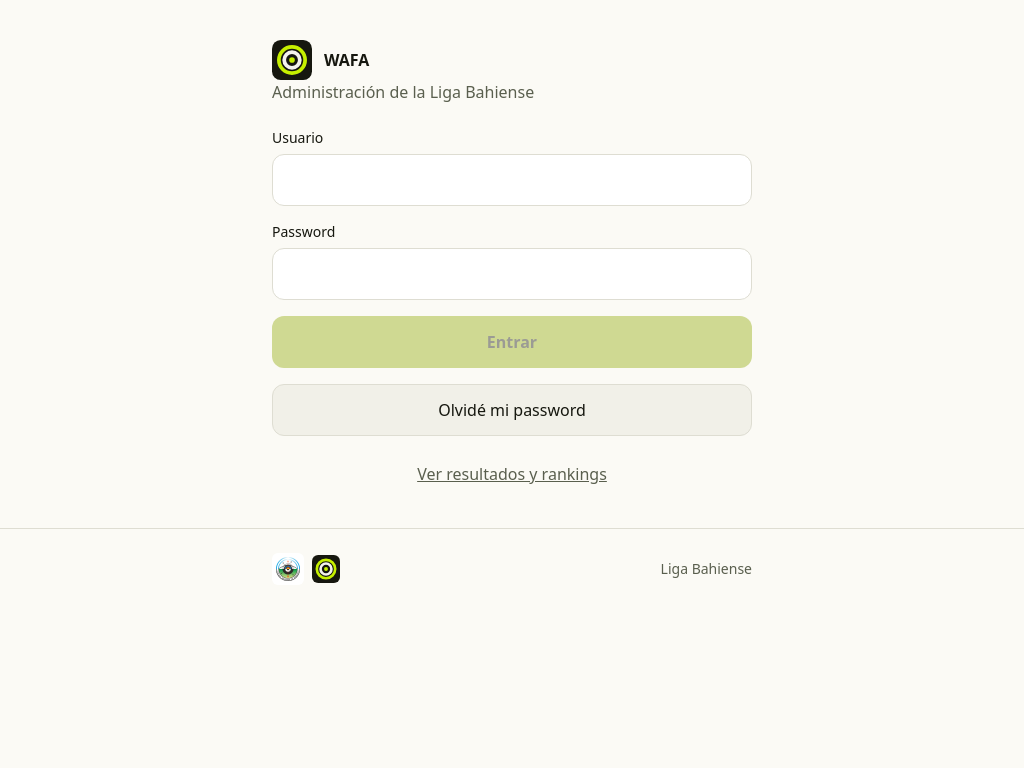
it: sesión de admin › entra y muestra la home
Type "admin" into the field labelled "Usuario" at (512, 180), box [272,154,752,206]
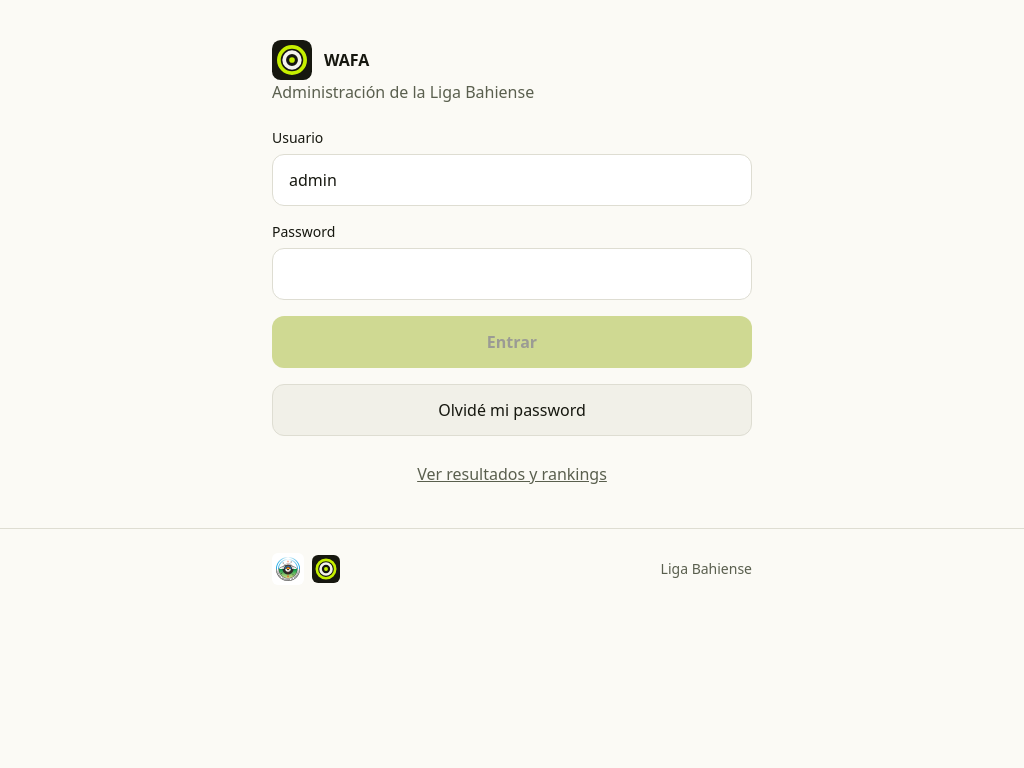
Type "secreto" into the password field labelled "Password" at (512, 274), box [272,248,752,300]
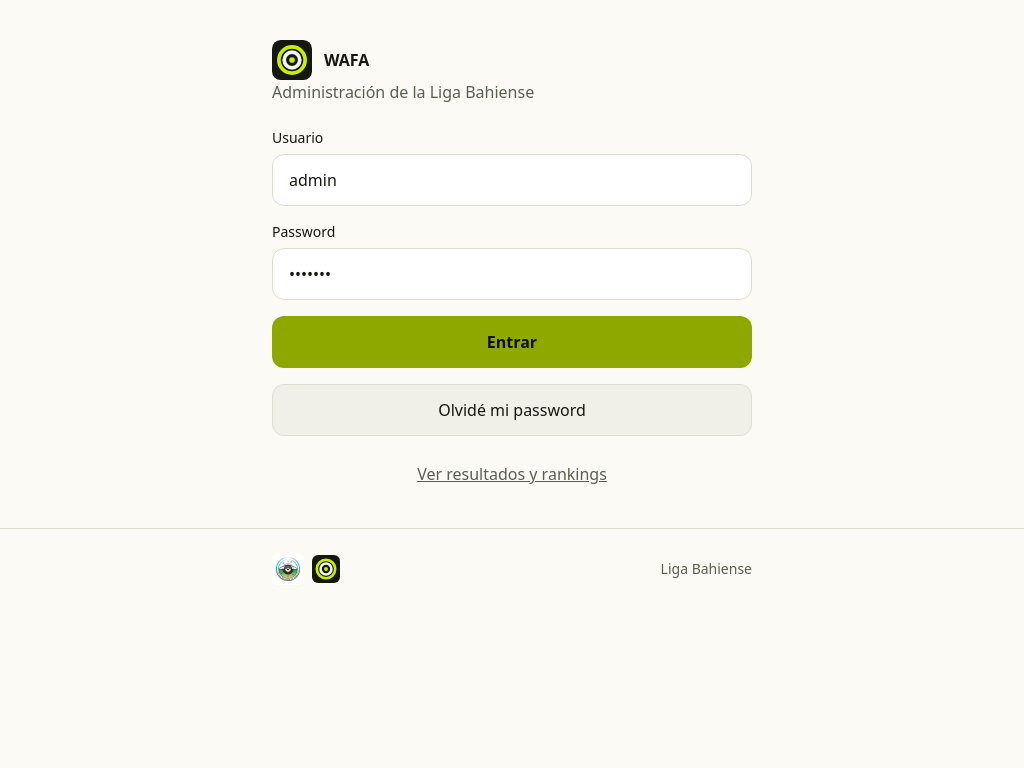
Click the button "Entrar" at (512, 342), box [272,316,752,368]
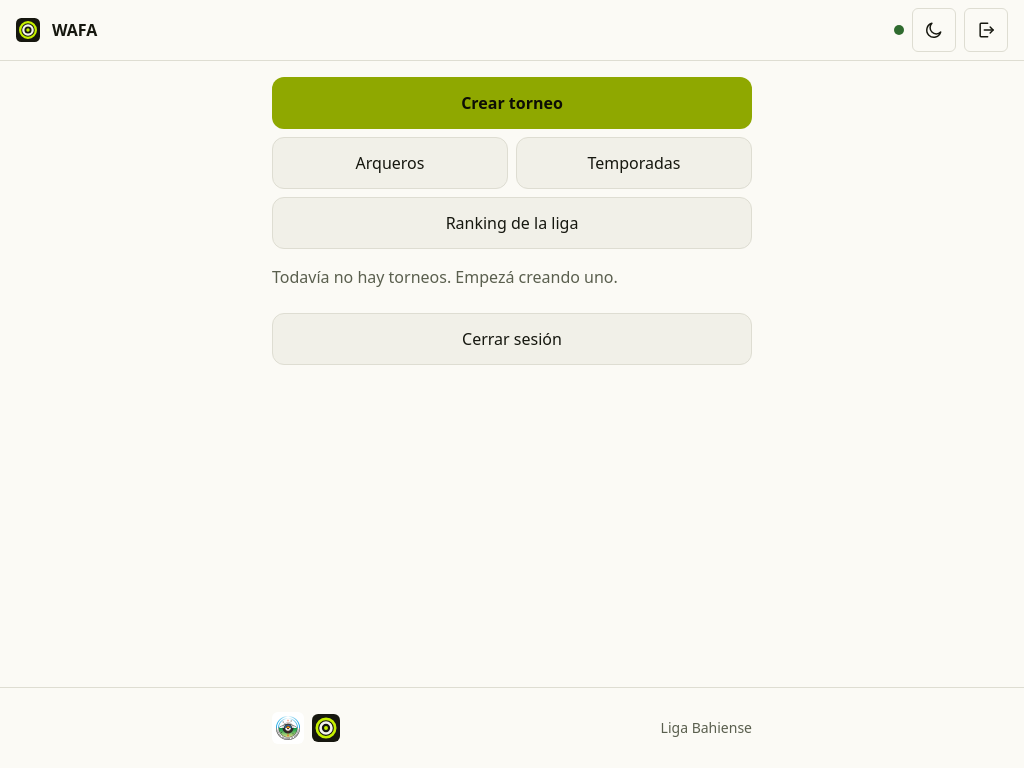
Check: the link "Crear torneo" is shown, box [272,77,752,129]
